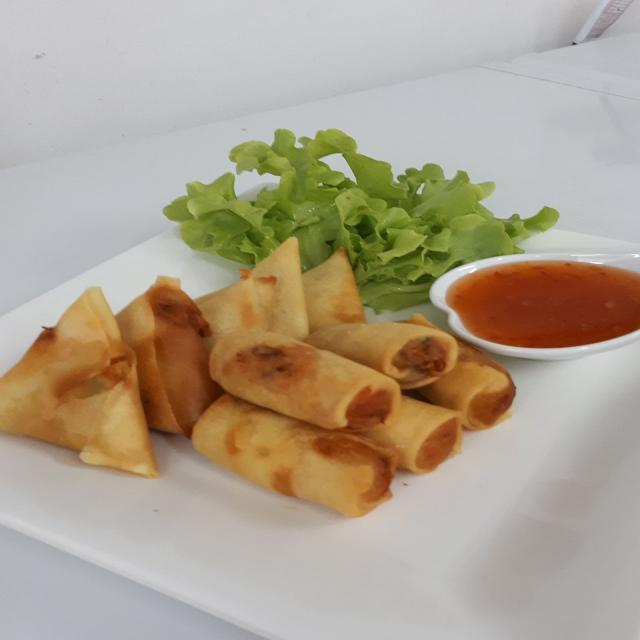Samosa: (1, 239, 357, 461)
Spring Rolls: (173, 312, 518, 514)
